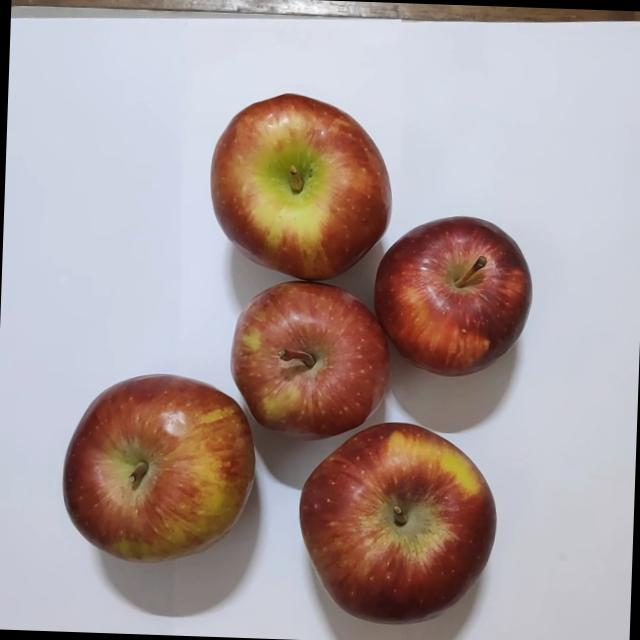apple: (286, 408, 512, 636), (51, 359, 266, 586), (190, 86, 400, 292), (220, 272, 396, 444), (368, 208, 536, 380)
